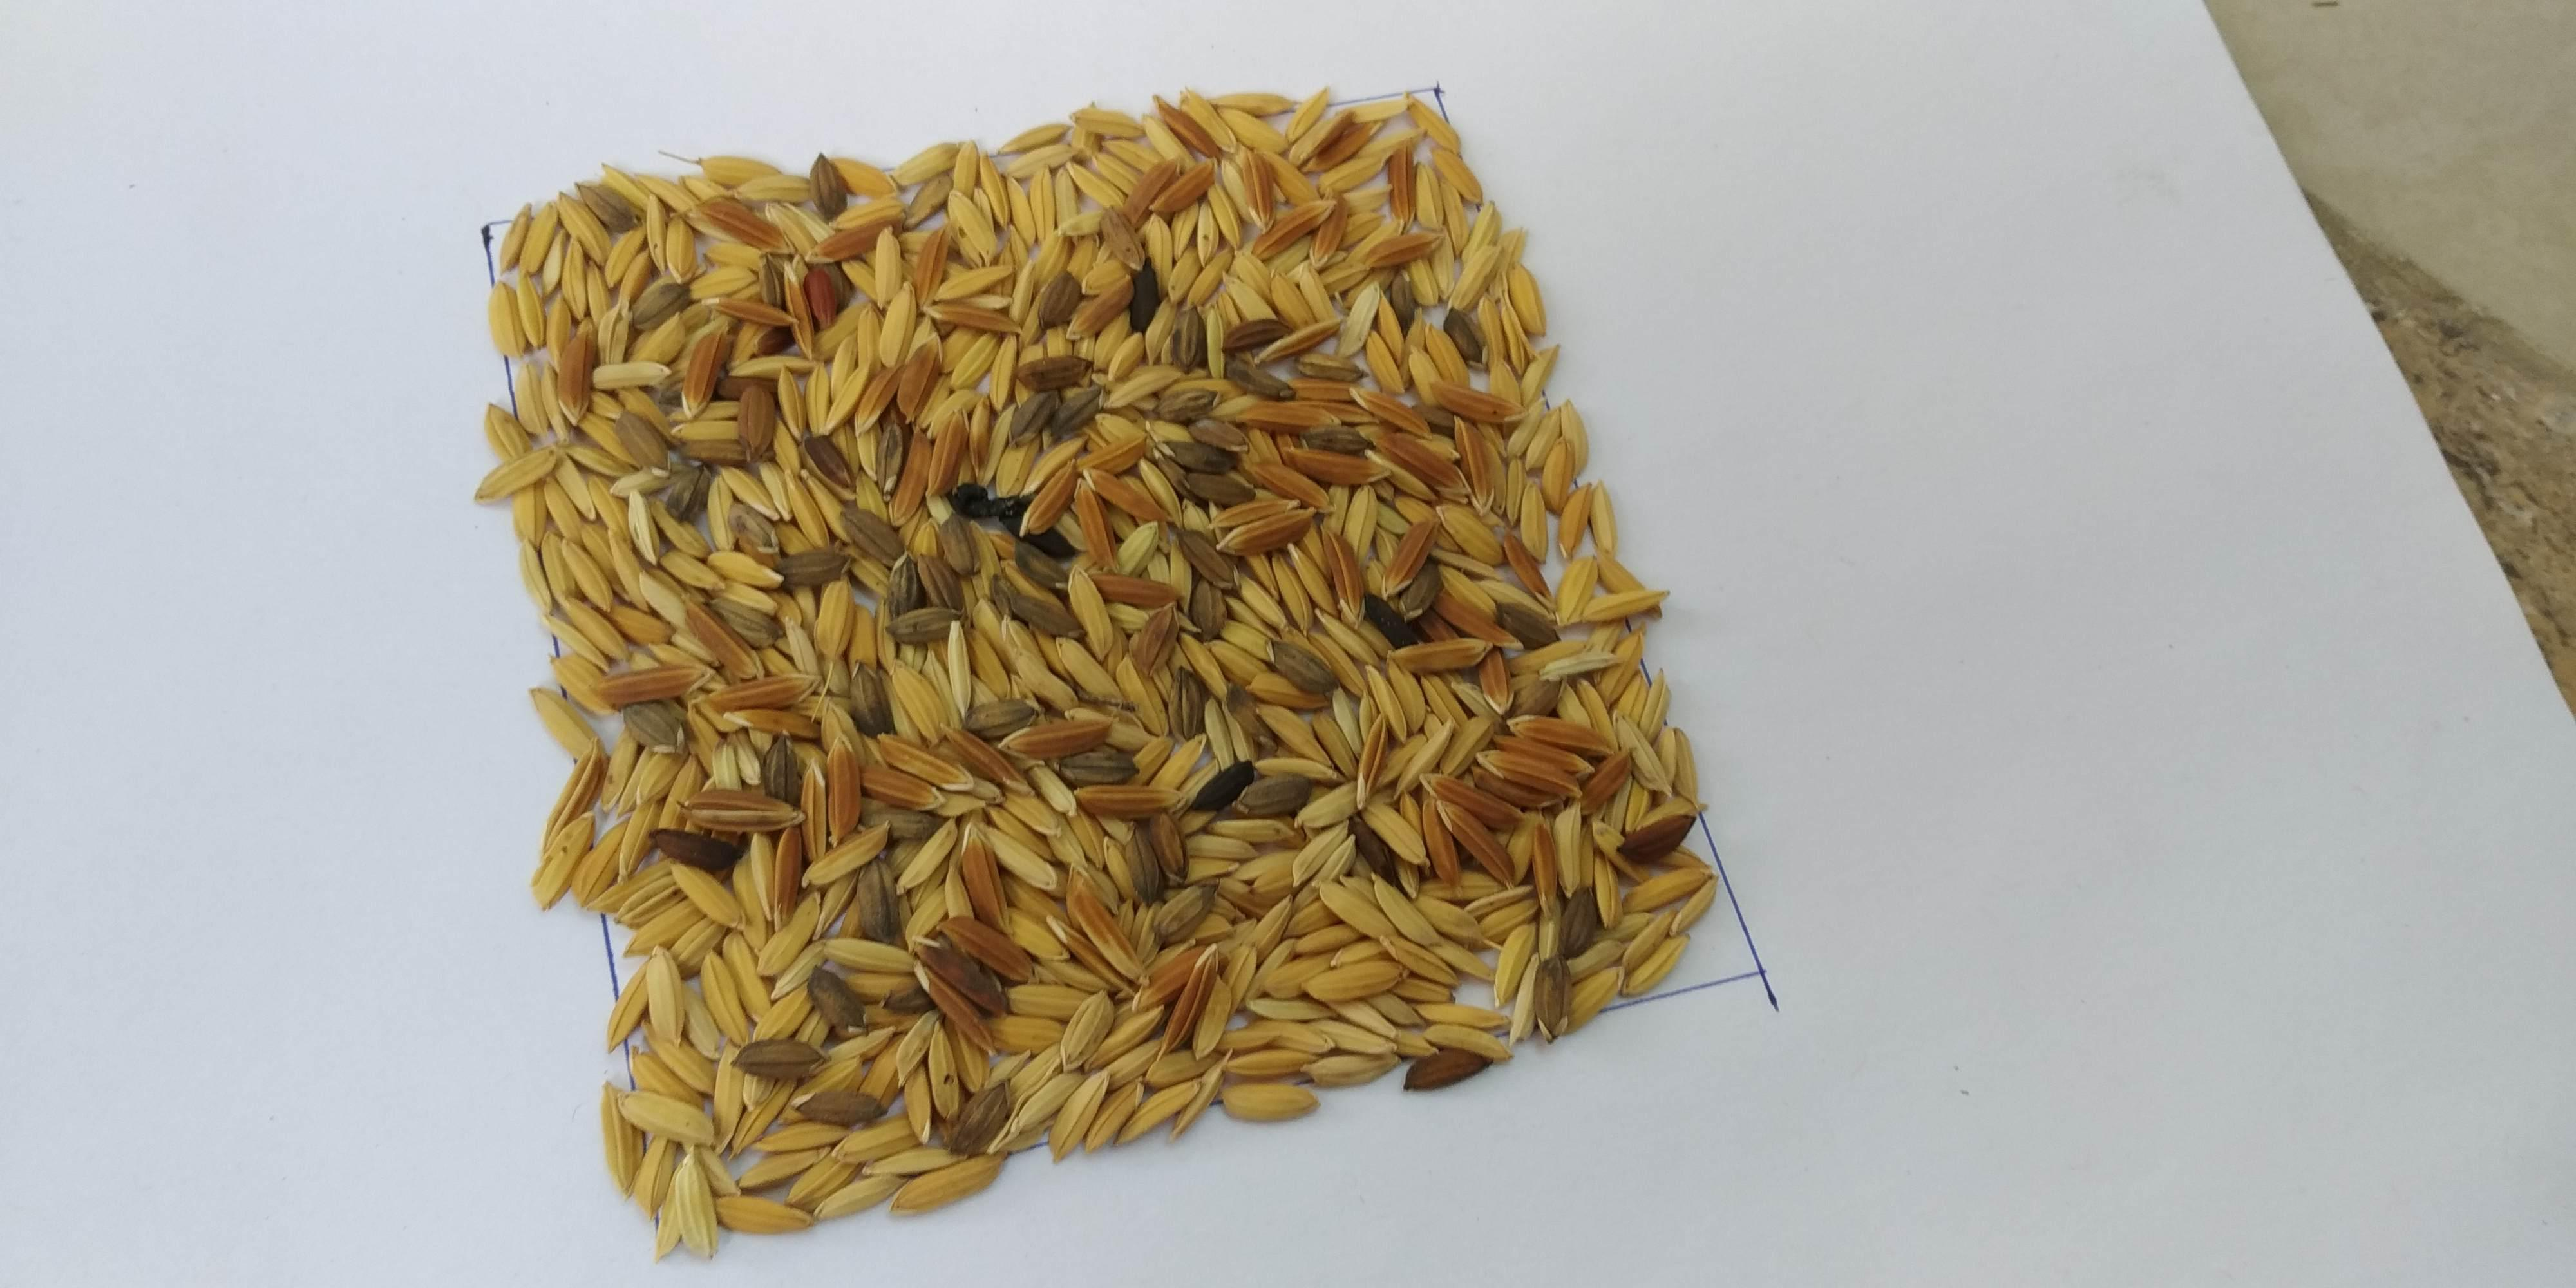impure: (628, 225, 1513, 1048)
